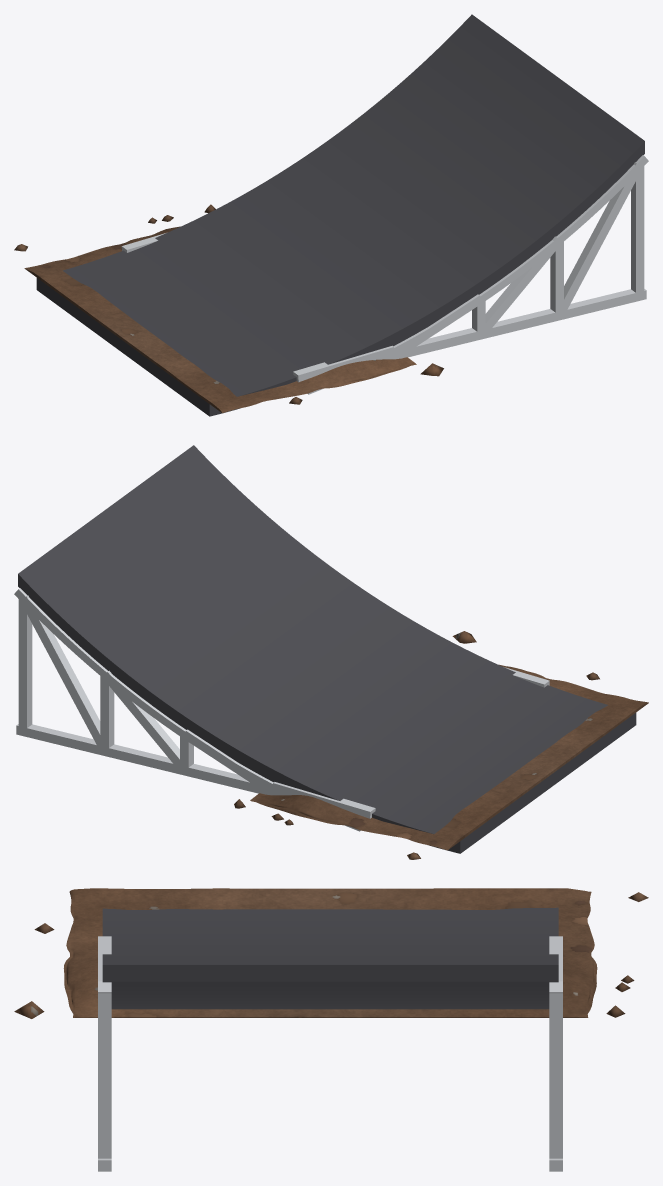
File: DR_Prop_SteelRamp.fbx
3 renders of one model, top to bottom at view 1: azimuth 30°, elevation 25°; view 2: azimuth 150°, elevation 25°; view 3: azimuth 270°, elevation 25°, orthographic. The views are drawn at different scales.
Parts seen in each view (by area): view 1: DR_Prop_SteelRamp; view 2: DR_Prop_SteelRamp; view 3: DR_Prop_SteelRamp.
Boxes of the visible parts, bbox=[...] form: DR_Prop_SteelRamp: bbox=[14, 14, 648, 416]; DR_Prop_SteelRamp: bbox=[14, 445, 648, 859]; DR_Prop_SteelRamp: bbox=[14, 888, 648, 1171].
Size of the model in its own units: 1.46 by 0.5417 by 1.39.
Materials: 3 (1 with a texture image).
